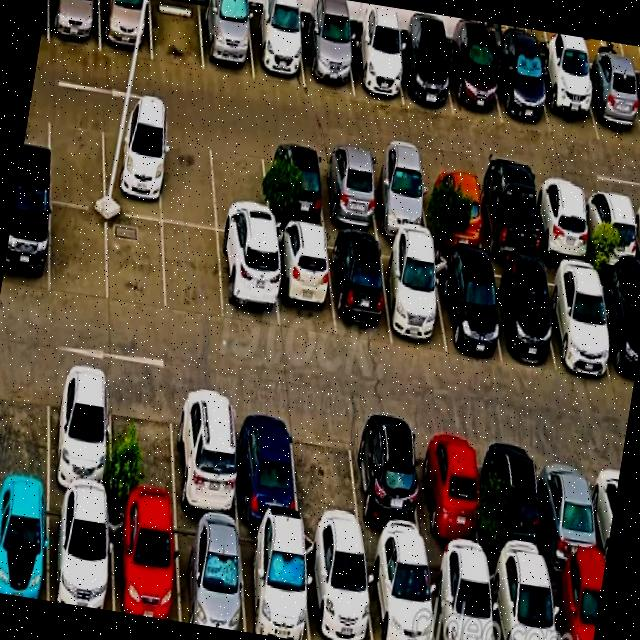empty: (292, 409, 362, 542), (112, 376, 176, 512), (210, 134, 270, 239), (0, 359, 48, 489), (163, 223, 223, 320), (160, 126, 216, 229), (108, 213, 165, 314), (49, 107, 105, 209), (50, 203, 107, 302), (150, 0, 204, 70)
occupied: (350, 417, 425, 551), (415, 425, 483, 561), (537, 443, 604, 576), (233, 397, 299, 529), (174, 387, 238, 522), (48, 365, 111, 501), (486, 434, 548, 568), (174, 515, 245, 632), (111, 505, 179, 622), (240, 525, 309, 640), (543, 265, 612, 377), (49, 493, 113, 611), (433, 254, 501, 363), (380, 244, 447, 354), (485, 261, 555, 366), (304, 534, 373, 640), (327, 235, 392, 342), (273, 227, 335, 336), (365, 547, 435, 640), (103, 117, 162, 221), (427, 553, 495, 640), (475, 173, 540, 263), (218, 234, 279, 329), (0, 487, 49, 601), (263, 143, 325, 230), (422, 166, 484, 252), (488, 562, 556, 640), (368, 157, 430, 241), (319, 150, 379, 235), (537, 59, 599, 141), (597, 271, 640, 387), (533, 181, 592, 265), (1, 193, 50, 294), (493, 48, 551, 132), (583, 187, 640, 272), (581, 65, 640, 147), (446, 42, 502, 123), (395, 38, 453, 114), (248, 11, 305, 88), (346, 30, 403, 105), (200, 1, 254, 80), (548, 569, 604, 640), (301, 23, 353, 94), (99, 0, 152, 60), (48, 0, 100, 51)
